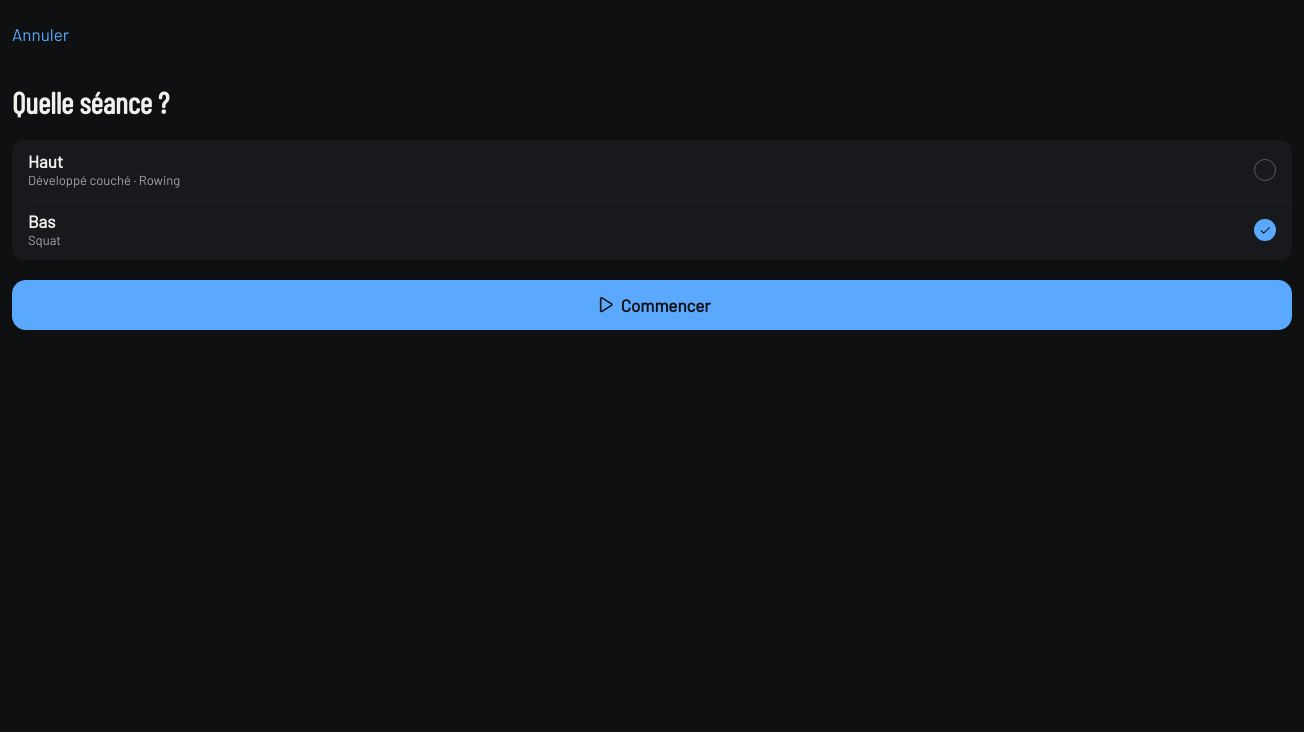
Test: LogSportPage › choix de la séance : présélection correcte quand les programmes arrivent après l’ouverture
Click the button "Commencer".
click(652, 305)  # box [12,280,1292,330]
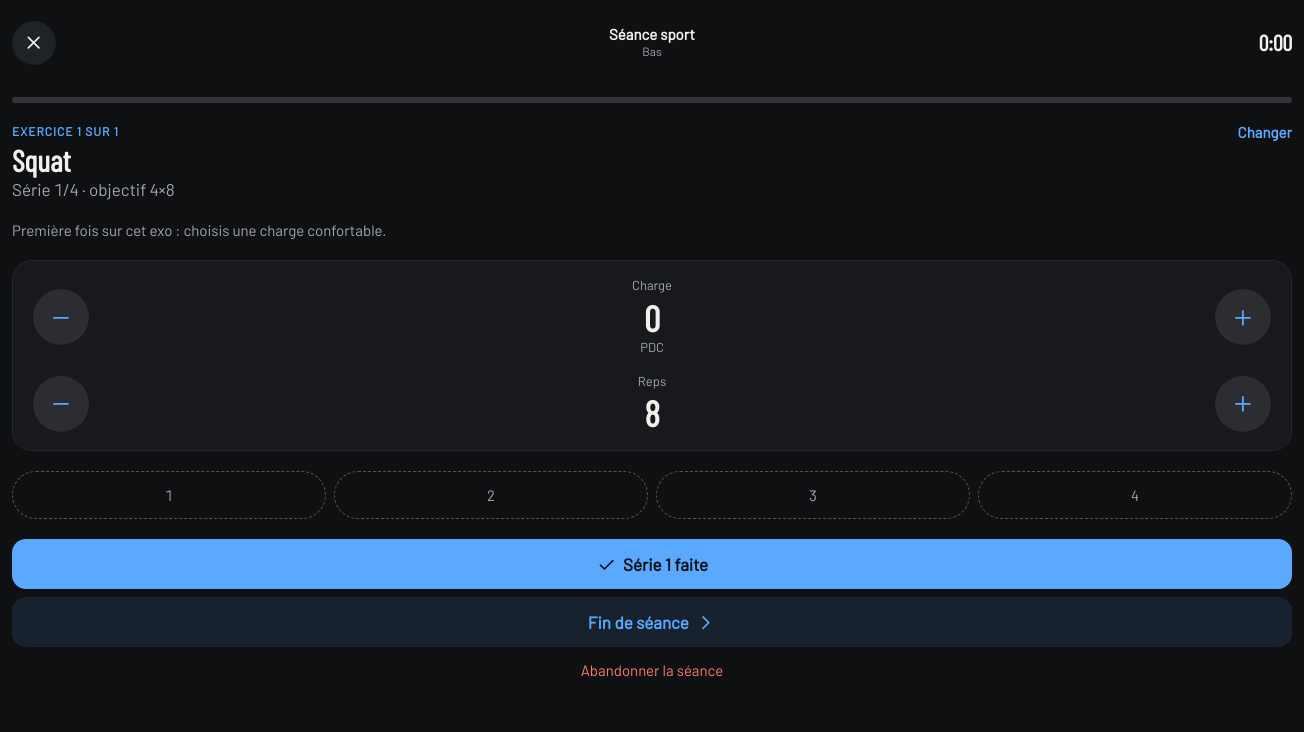
Expected: the heading "Squat" is shown, [12,142,70,178]
